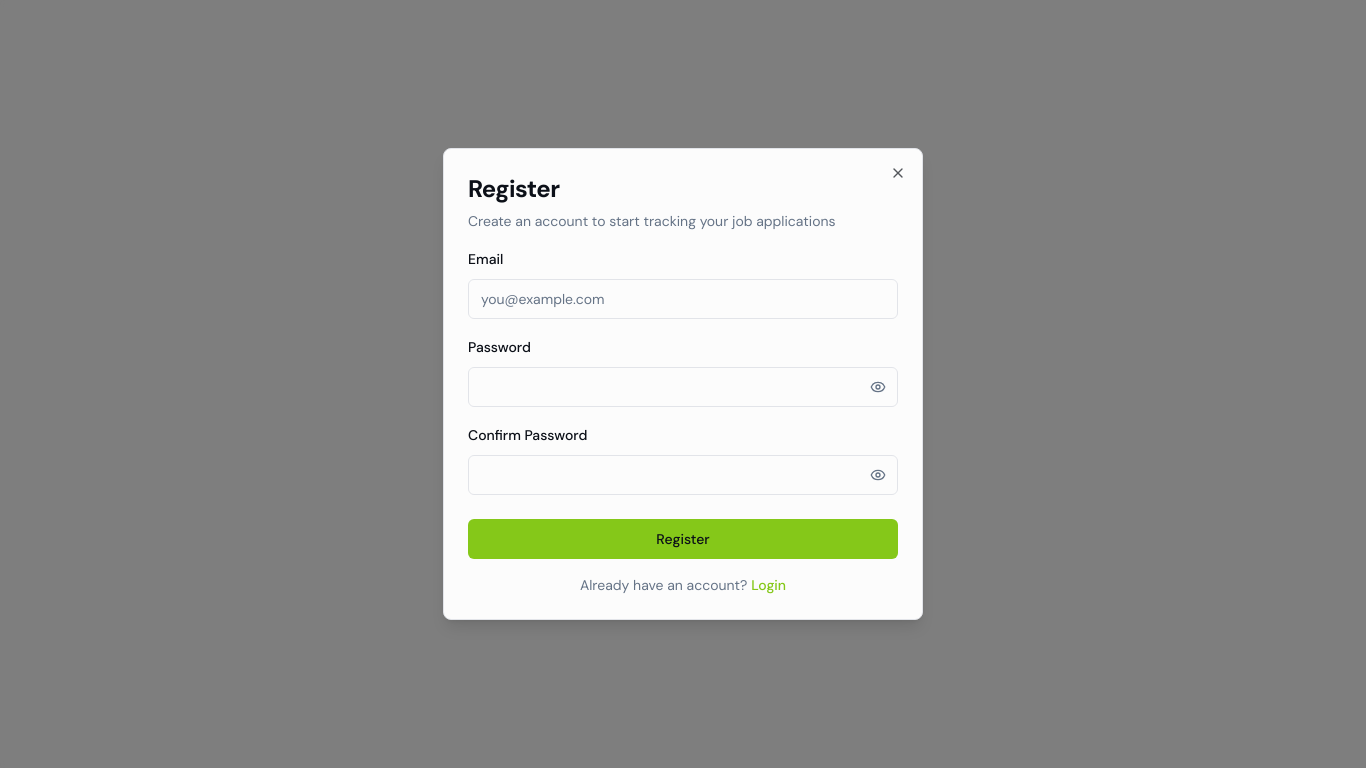
a password the server refused, in en › is explained in the registration form's own language
In the field labelled "Email": point(683, 299) 468,279 -> 898,319, type "user@test.com"
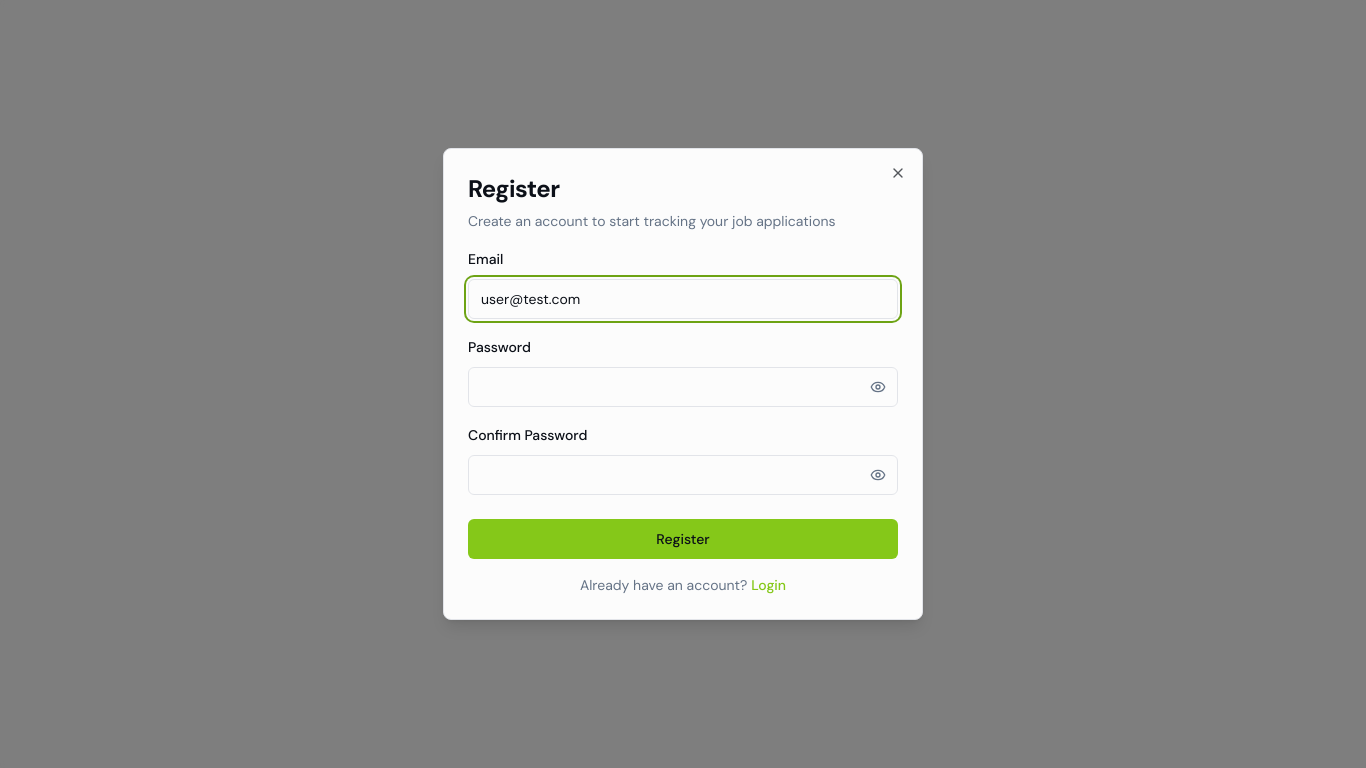
In the password field labelled "Password": point(683, 387) 468,367 -> 898,407, type "validpass1"
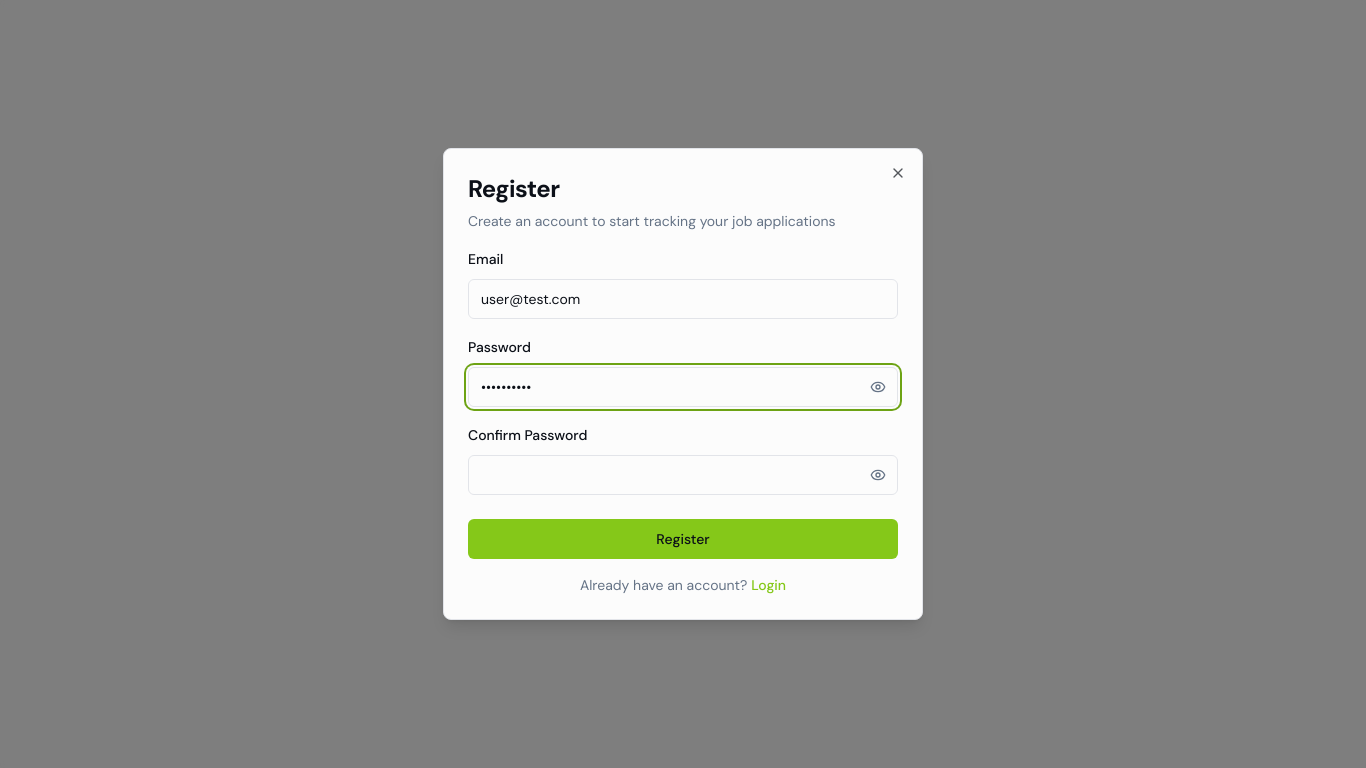
In the password field labelled "Confirm Password": point(683, 475) 468,455 -> 898,495, type "validpass1"
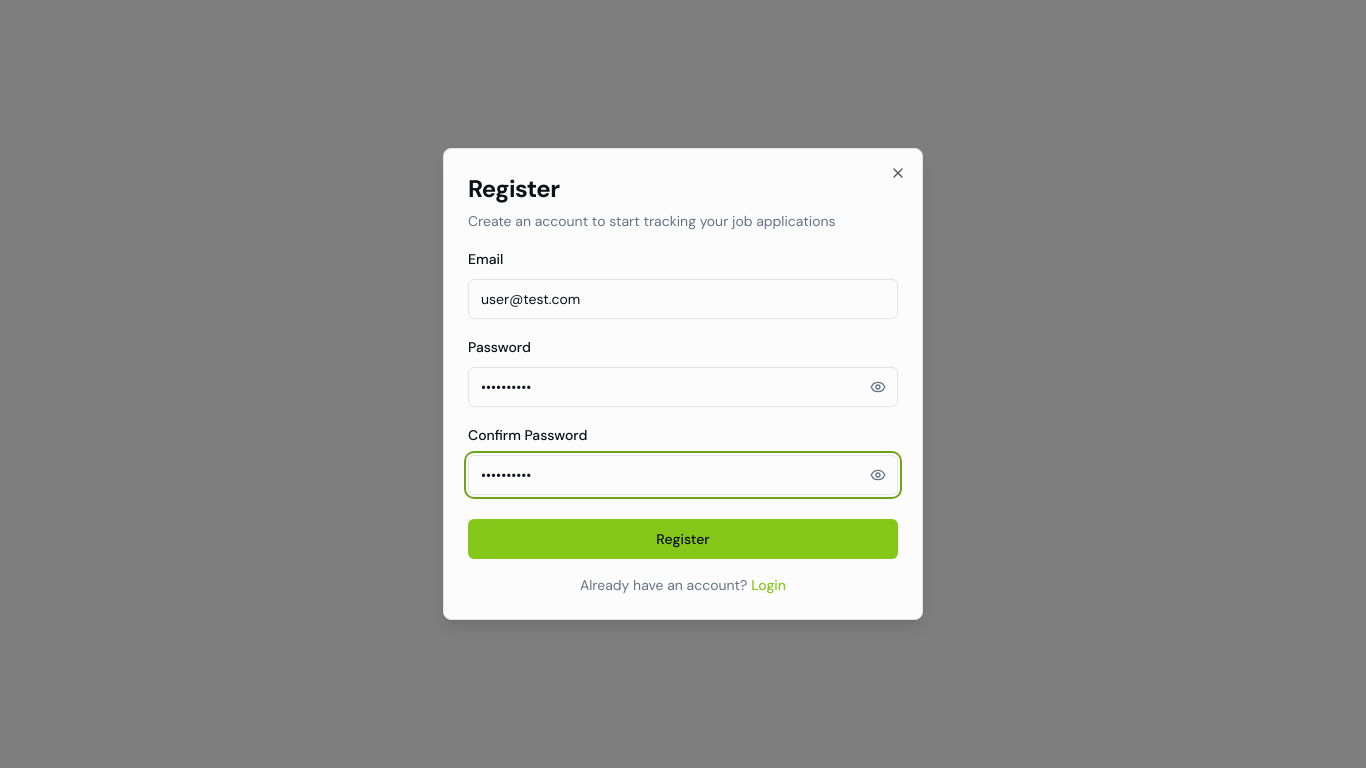
Click the button "Register": point(683, 539) 468,519 -> 898,559
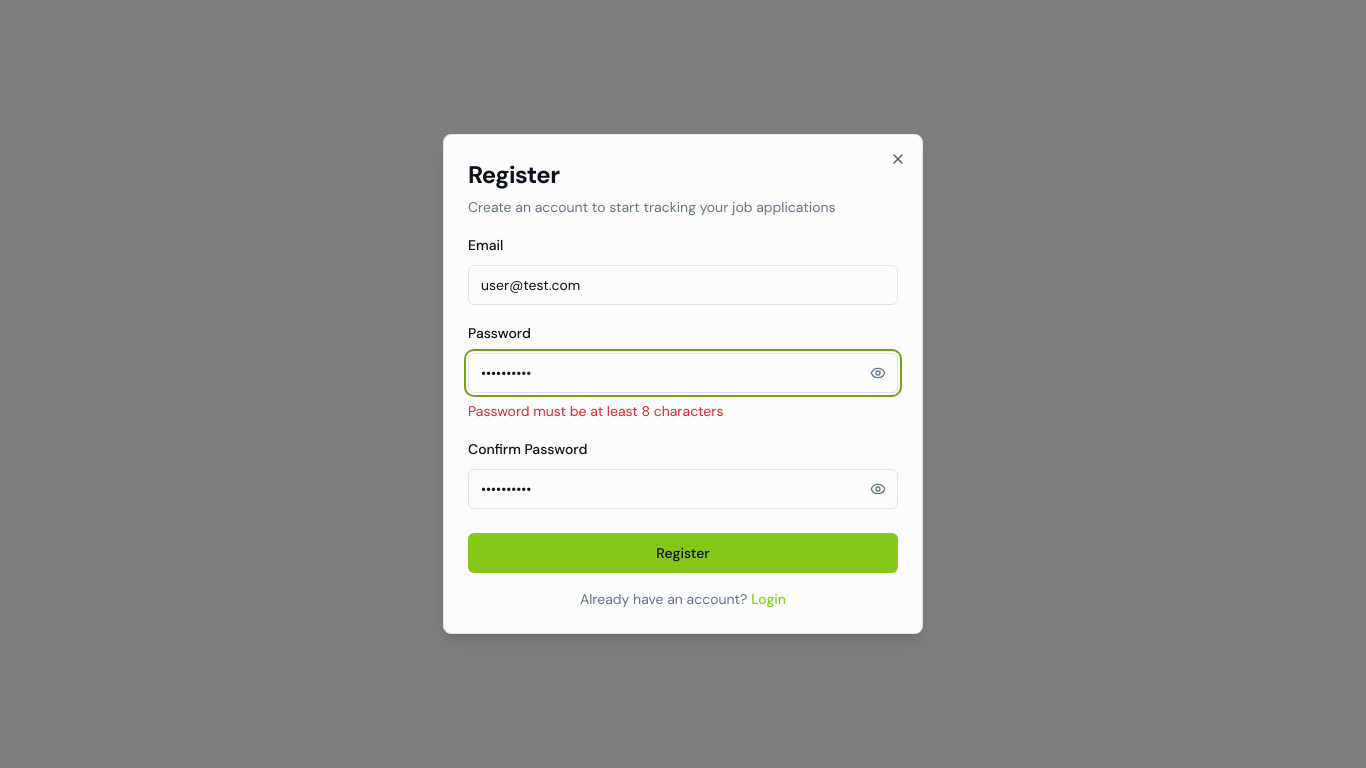
Expected: the text "Password must be at least 8 characters" is shown, 468,402 -> 723,420
